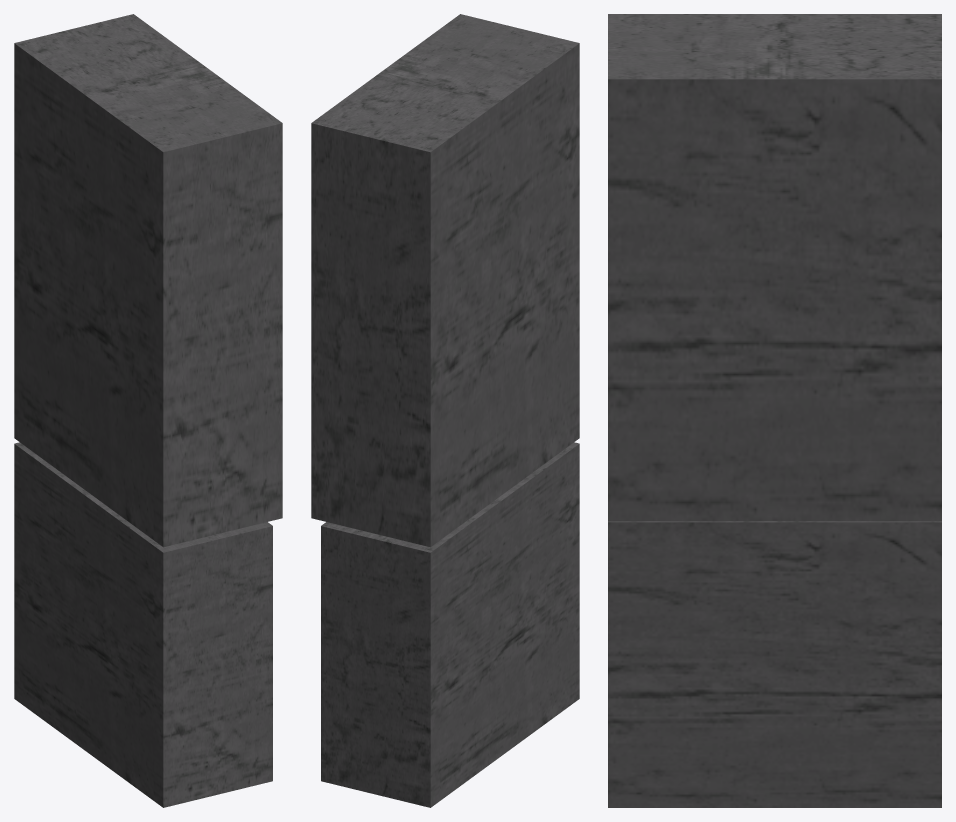
The model's file is p6_fuse_box_base_b_lod3.glb.
3 renders of one model, left to right at view 1: azimuth 30°, elevation 25°; view 2: azimuth 150°, elevation 25°; view 3: azimuth 270°, elevation 25°, orthographic. The views are drawn at different scales.
Visible parts, largest first — view 1: surf0; view 2: surf0; view 3: surf0.
Boxes of the visible parts, x1,y1,x2,y2 form: surf0: (14,14,282,807); surf0: (311,14,579,807); surf0: (608,14,941,807).
Bounding box in the file's own units: 7.42 × 38.92 × 16.05.
